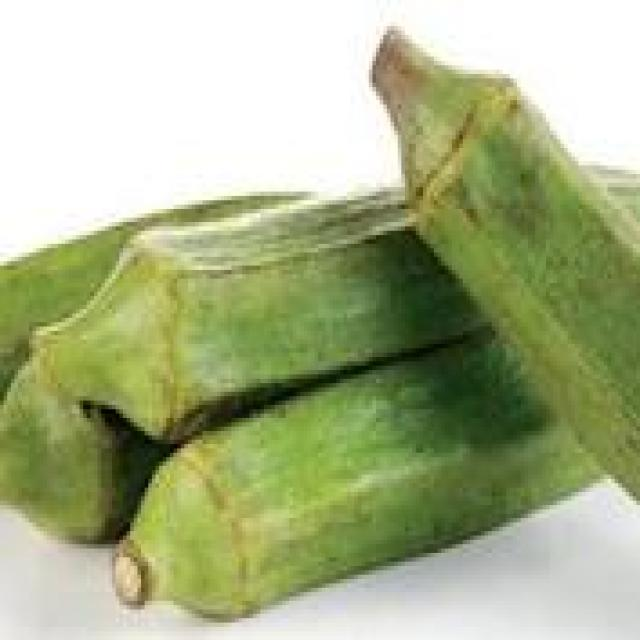ledisfingers: (0, 17, 636, 618)
